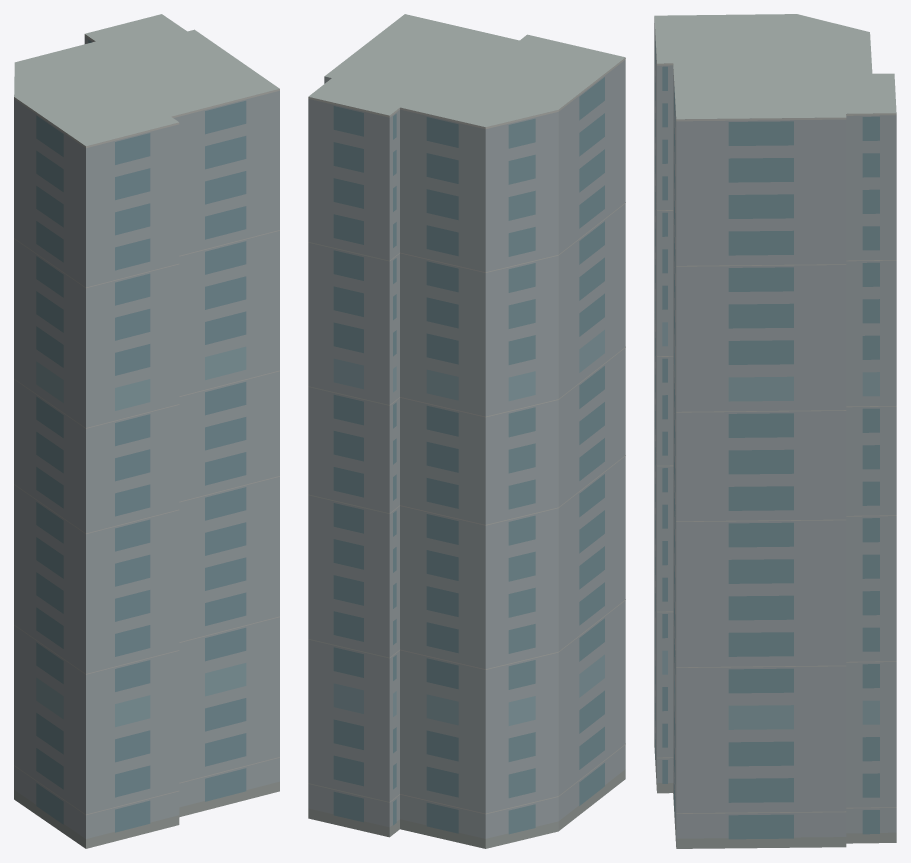
The model's file is survey-upis-32754796.glb.
3 views of the same model, side by side, from view 1: azimuth 30°, elevation 25°; view 2: azimuth 150°, elevation 25°; view 3: azimuth 270°, elevation 25° (orthographic). The views are drawn at different scales.
Visible parts, largest first — view 1: survey-upis-32754796.tmp; view 2: survey-upis-32754796.tmp; view 3: survey-upis-32754796.tmp.
Part boxes in pixels (x1,y1,x2,y2): survey-upis-32754796.tmp: (14, 14, 279, 848); survey-upis-32754796.tmp: (308, 14, 625, 848); survey-upis-32754796.tmp: (654, 14, 896, 848).
Bounding box in the file's own units: 26.35 × 85.1 × 25.62.
